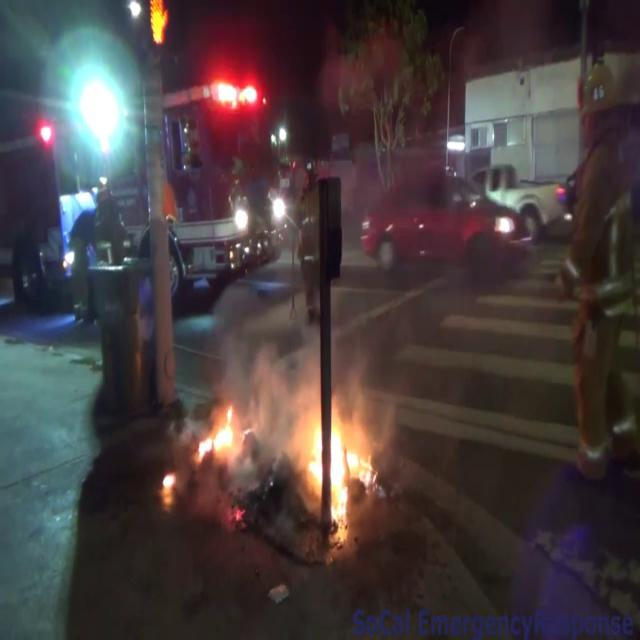Fire: (304, 392, 366, 528), (196, 395, 242, 465)
Smoke: (237, 324, 302, 462)
